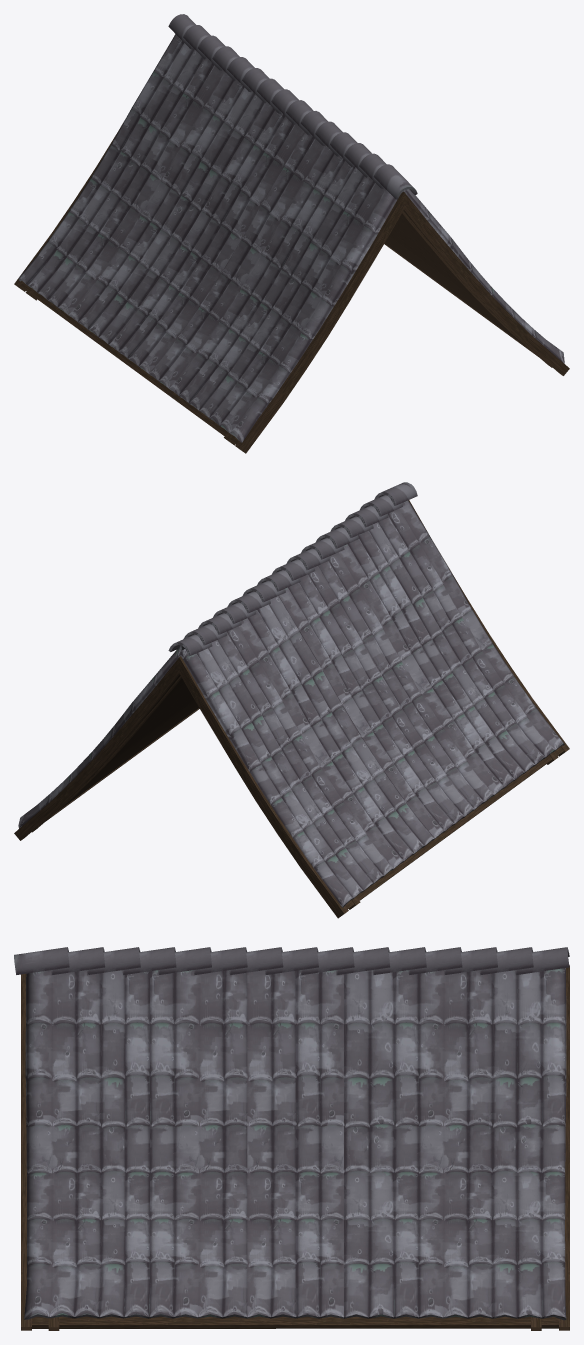
File: Roof_RoundTiles_8x10.gltf
3 views of the same model, one above another, from view 1: azimuth 30°, elevation 25°; view 2: azimuth 150°, elevation 25°; view 3: azimuth 270°, elevation 25° (orthographic). The views are drawn at different scales.
Parts seen in each view (by area): view 1: Roof_RoundTiles_8x10; view 2: Roof_RoundTiles_8x10; view 3: Roof_RoundTiles_8x10.
Part boxes in pixels (left/top/right/bottom): Roof_RoundTiles_8x10: left=14, top=14, right=569, bottom=453; Roof_RoundTiles_8x10: left=14, top=482, right=569, bottom=918; Roof_RoundTiles_8x10: left=14, top=947, right=569, bottom=1330.
Size of the model in its own units: 9.95 by 6.78 by 11.86.
Materials: 2 (2 with a texture image).
